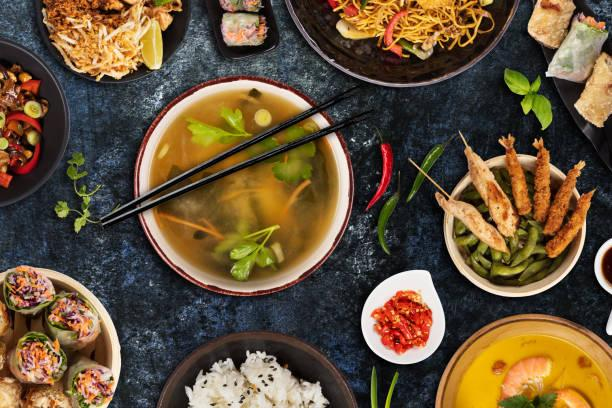Braised Crucian Carp: (133, 76, 347, 293), (442, 155, 585, 295), (0, 262, 124, 408)
